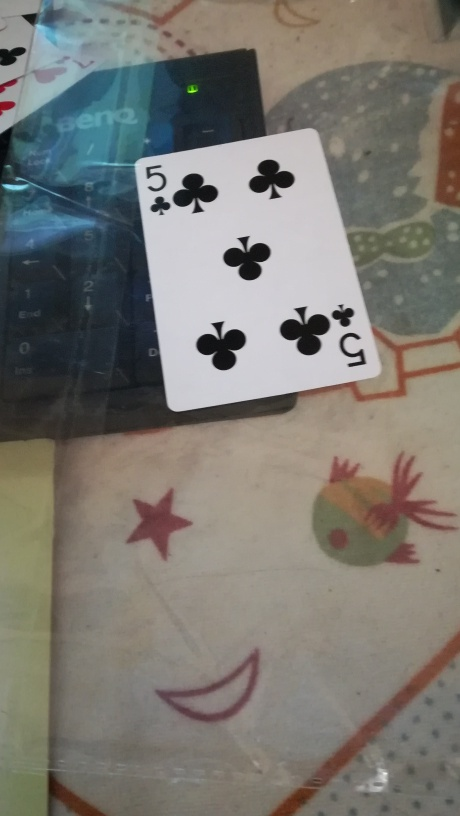mh 5: (133, 127, 388, 404)
